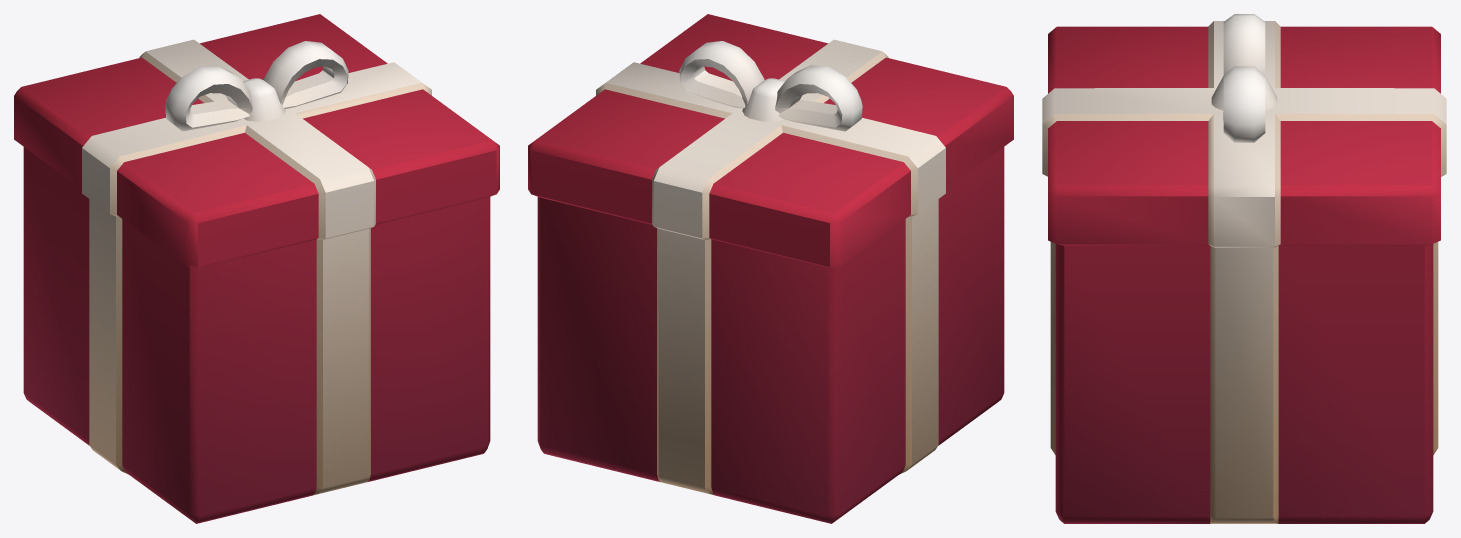
Rendered from present_D_red.fbx.
The picture shows the model from 3 angles, left to right: view 1: azimuth 30°, elevation 25°; view 2: azimuth 150°, elevation 25°; view 3: azimuth 270°, elevation 25°; orthographic projection. The views are drawn at different scales.
Visible parts, largest first — view 1: present_D_red; view 2: present_D_red; view 3: present_D_red.
Boxes of the visible parts, x1=… form: present_D_red: x1=14, y1=14, x2=499, y2=523; present_D_red: x1=528, y1=14, x2=1013, y2=523; present_D_red: x1=1042, y1=14, x2=1446, y2=523.
Bounding box in the file's own units: 96.38 × 106 × 96.38.
